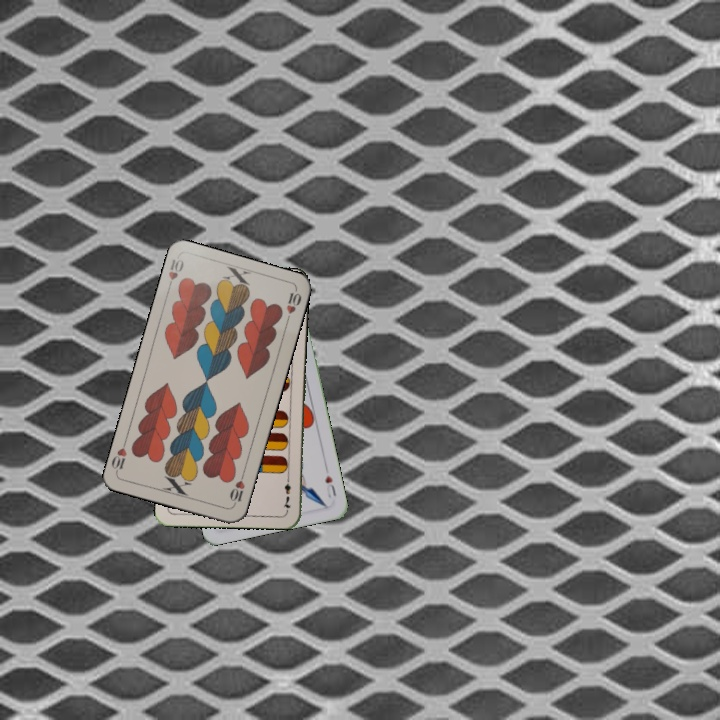E7: (279, 472, 294, 513)
H10: (163, 253, 186, 293), (226, 469, 247, 508)
HU: (321, 471, 339, 500)
